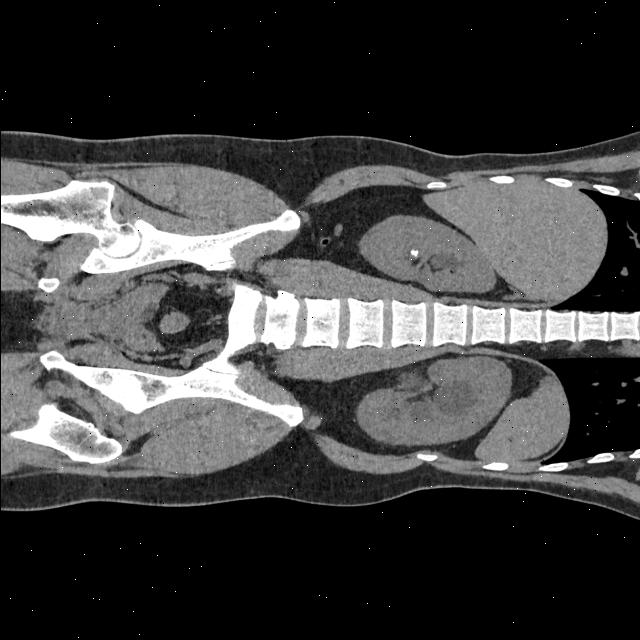kidneystone: (408, 249, 418, 259)
